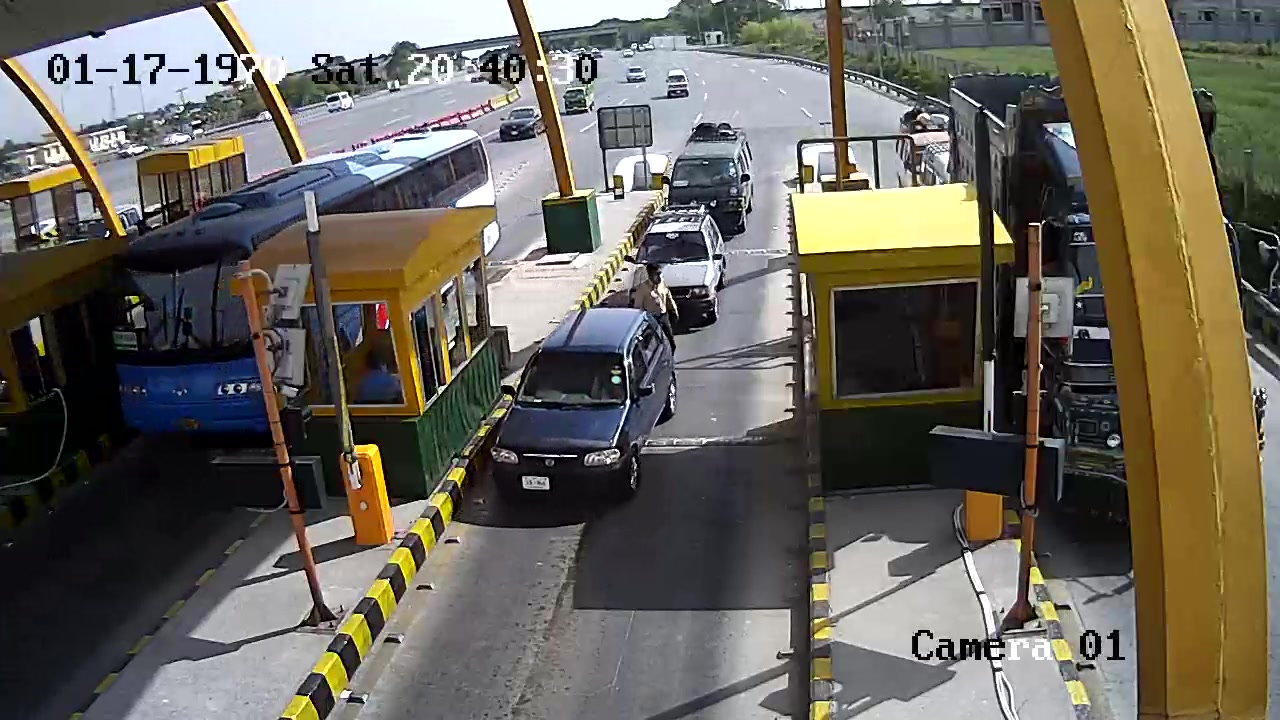F1: (481, 302, 685, 553), (605, 200, 745, 336)
